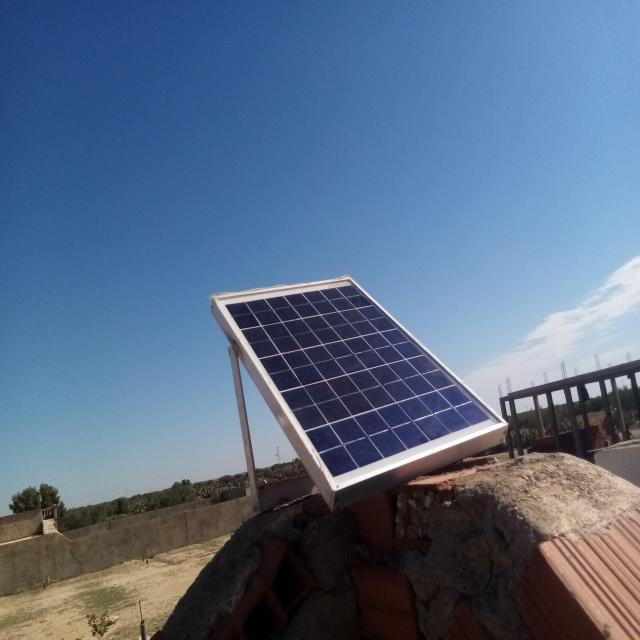no faulty: (217, 273, 508, 492)
